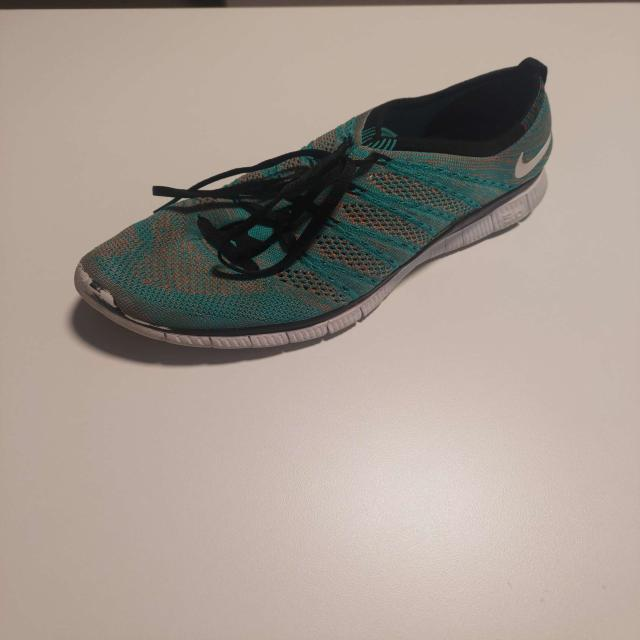shoe: (71, 53, 551, 354)
